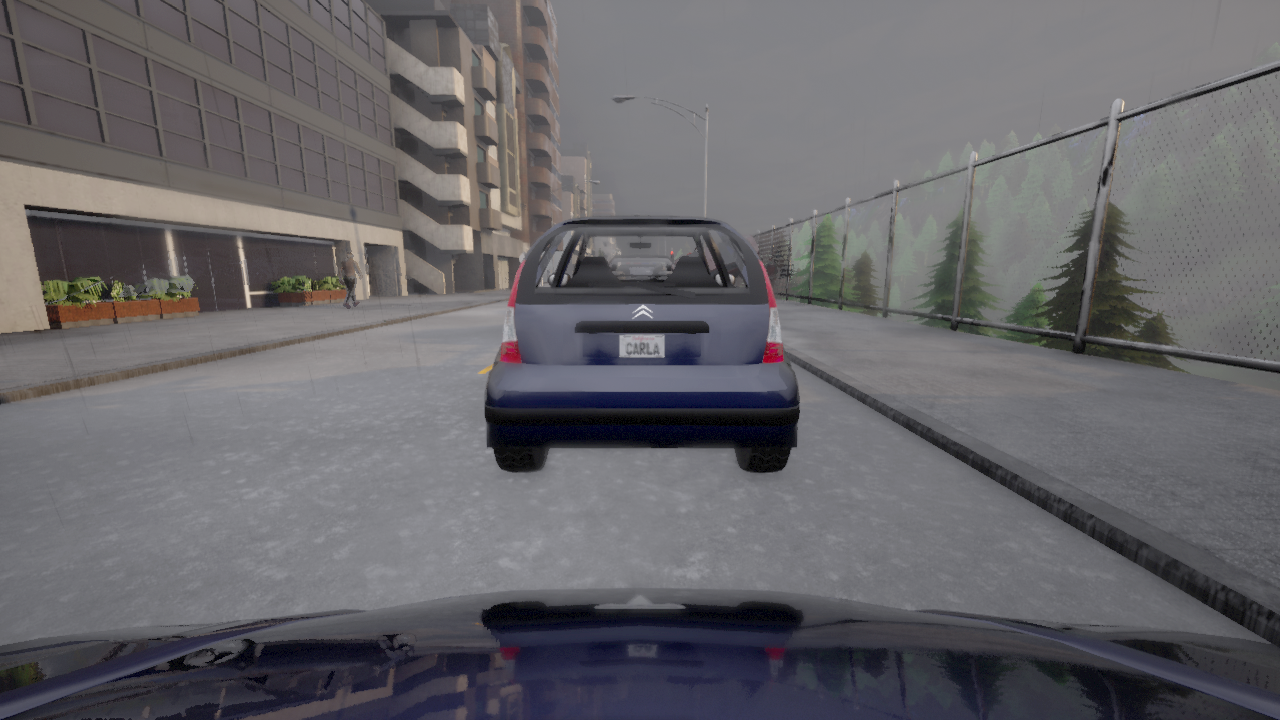cyclist: (0, 588, 1279, 719), (484, 216, 799, 472), (743, 234, 760, 256)
pedestrian: (339, 252, 361, 306), (765, 256, 775, 288), (760, 256, 766, 266)
